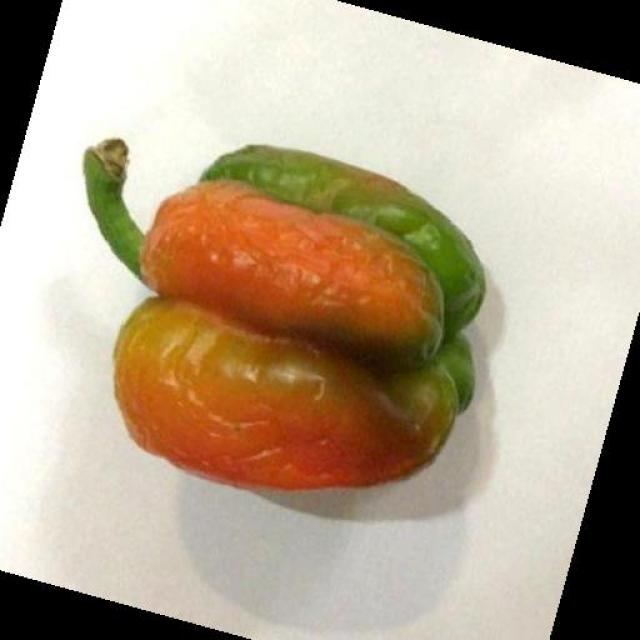Stale_Capsicum: (89, 136, 482, 500)
